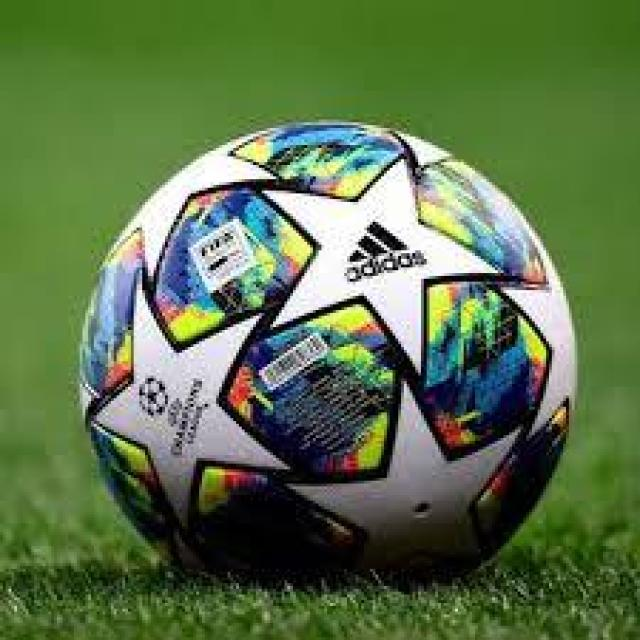Soccer Ball: (80, 125, 578, 580)
